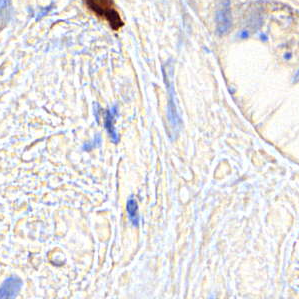Lymphocyte: (86, 1, 127, 31)
